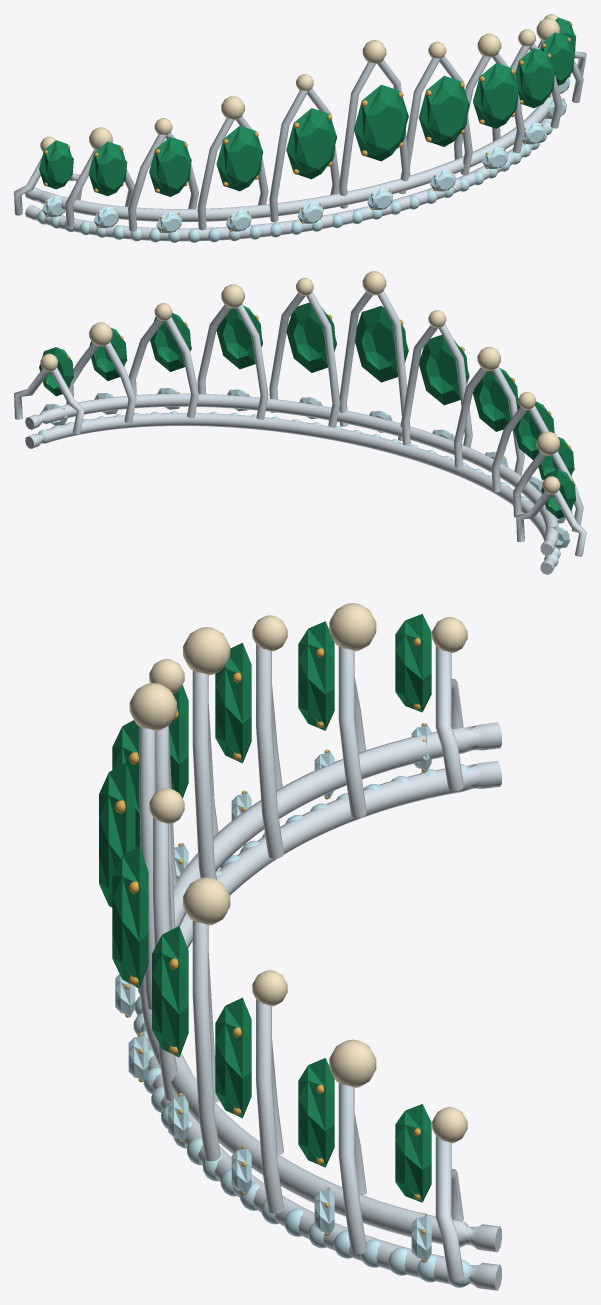
Rendered from emerald_tiara.fbx.
The picture shows the model from 3 angles, top to bottom: view 1: azimuth 30°, elevation 25°; view 2: azimuth 150°, elevation 25°; view 3: azimuth 270°, elevation 25°; orthographic projection. The views are drawn at different scales.
Parts seen in each view (by area): view 1: emerald_tiara joinery; view 2: emerald_tiara joinery; view 3: emerald_tiara joinery.
Boxes of the visible parts, x1,y1,x2,y2 form: emerald_tiara joinery: (14,14,586,242); emerald_tiara joinery: (14,271,586,574); emerald_tiara joinery: (99,603,501,1290).
Size of the model in its own units: 0.2178 by 0.0644 by 0.0665.
